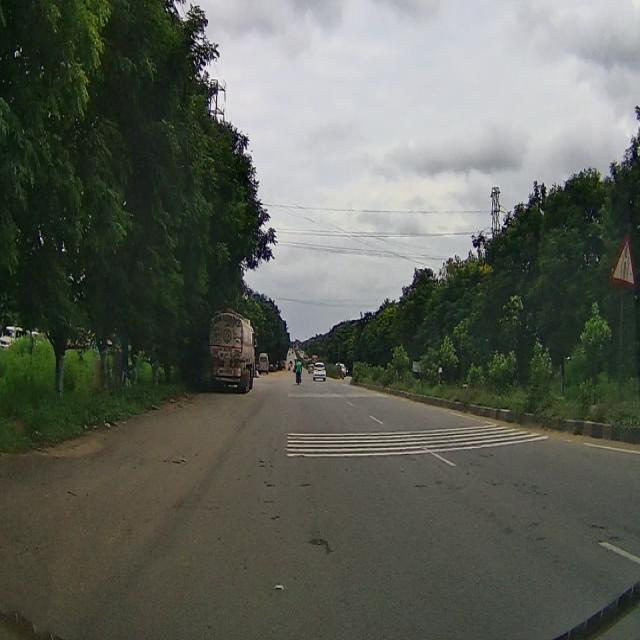gap-in-median: (613, 237, 633, 279)
